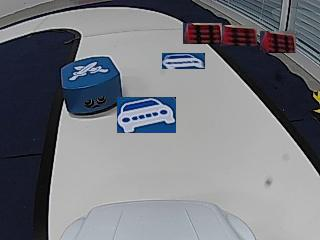spy: (69, 61, 107, 80)
